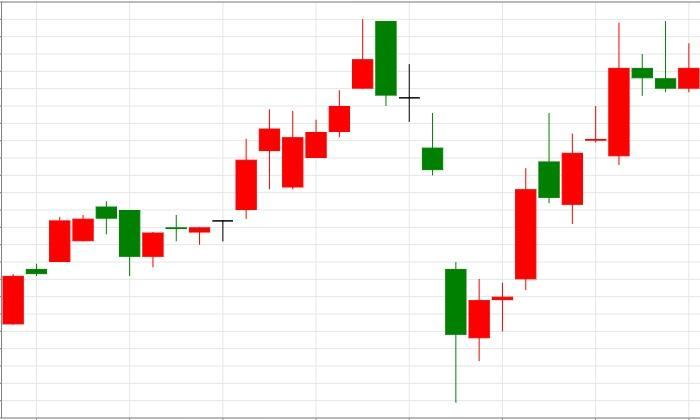bearish_engulfing_fall: (235, 18, 396, 219)
